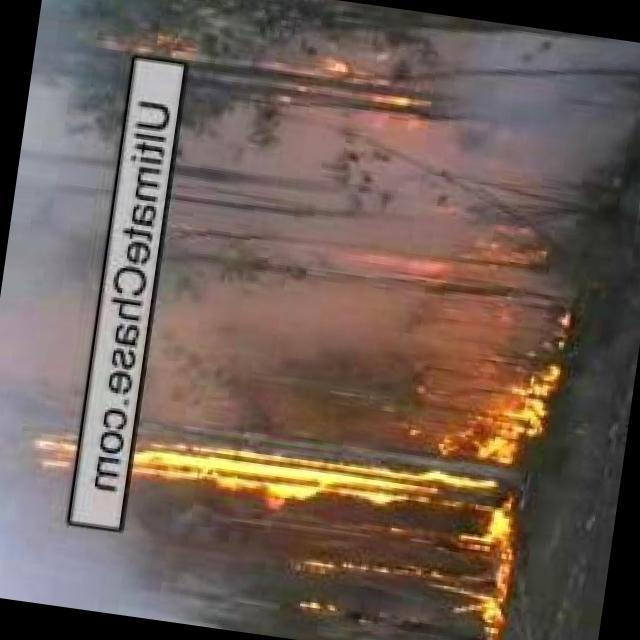Fire: (39, 425, 518, 533), (433, 339, 560, 474), (441, 574, 507, 640)
